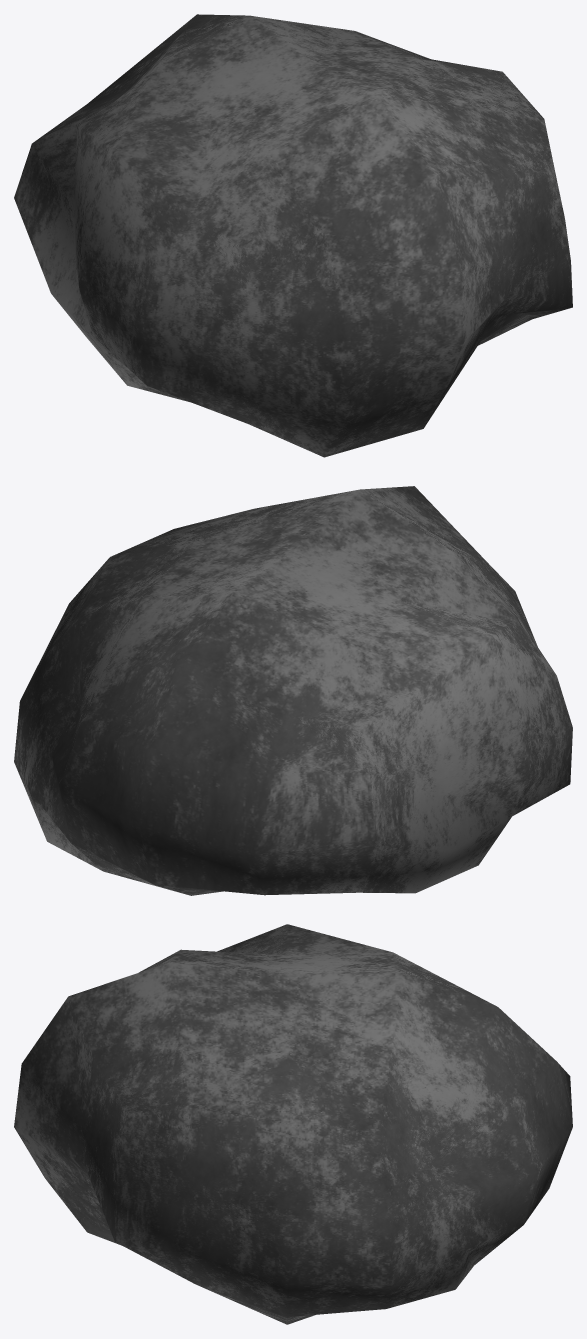
Rendered from Roca1.fbx.
The picture shows the model from 3 angles, top to bottom: view 1: azimuth 30°, elevation 25°; view 2: azimuth 150°, elevation 25°; view 3: azimuth 270°, elevation 25°; orthographic projection. The views are drawn at different scales.
Parts seen in each view (by area): view 1: Cube.001; view 2: Cube.001; view 3: Cube.001.
Part boxes in pixels (x1,y1,x2,y2): Cube.001: (14,14,572,457); Cube.001: (14,486,572,895); Cube.001: (14,924,572,1324).
Size of the model in its own units: 219 by 156 by 248.
